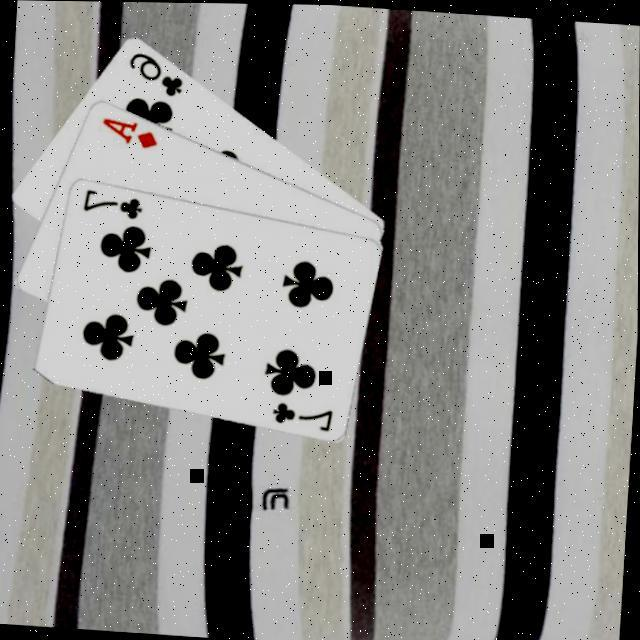6C: (122, 46, 186, 98)
7C: (267, 396, 335, 433), (77, 184, 144, 221)
AD: (96, 112, 160, 150)
